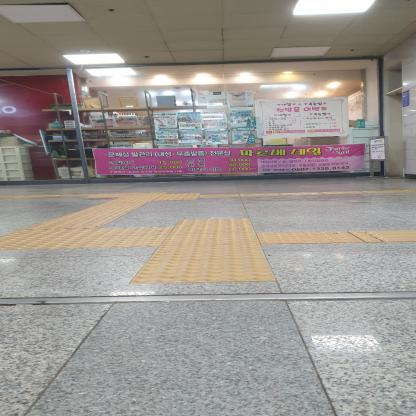stop: (128, 259, 277, 283), (147, 244, 267, 261), (58, 235, 168, 249), (158, 233, 260, 247), (256, 231, 365, 244), (168, 225, 255, 235)
